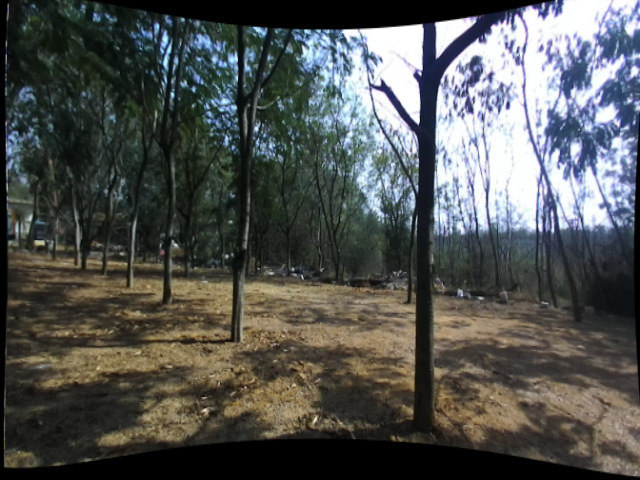tree: (352, 62, 475, 431), (195, 83, 290, 367), (143, 119, 193, 308)
